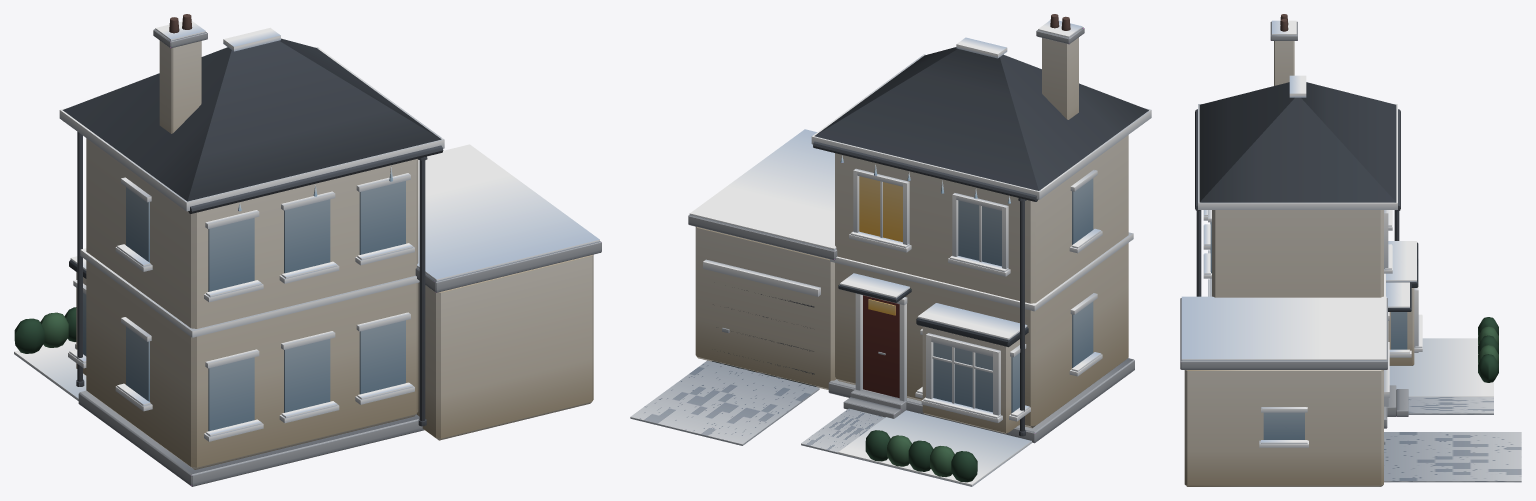
Rendered from ck_house_semi_garage.fbx.
3 views of the same model, side by side, from view 1: azimuth 30°, elevation 25°; view 2: azimuth 150°, elevation 25°; view 3: azimuth 270°, elevation 25° (orthographic). The views are drawn at different scales.
Visible parts, largest first — view 1: ck_house_semi_garage; view 2: ck_house_semi_garage; view 3: ck_house_semi_garage.
Boxes of the visible parts, left/top/right/bottom form: ck_house_semi_garage: left=14, top=14, right=601, bottom=486; ck_house_semi_garage: left=630, top=14, right=1151, bottom=486; ck_house_semi_garage: left=1180, top=14, right=1521, bottom=486.
Bounding box in the file's own units: 2500 × 2489 × 2295.
